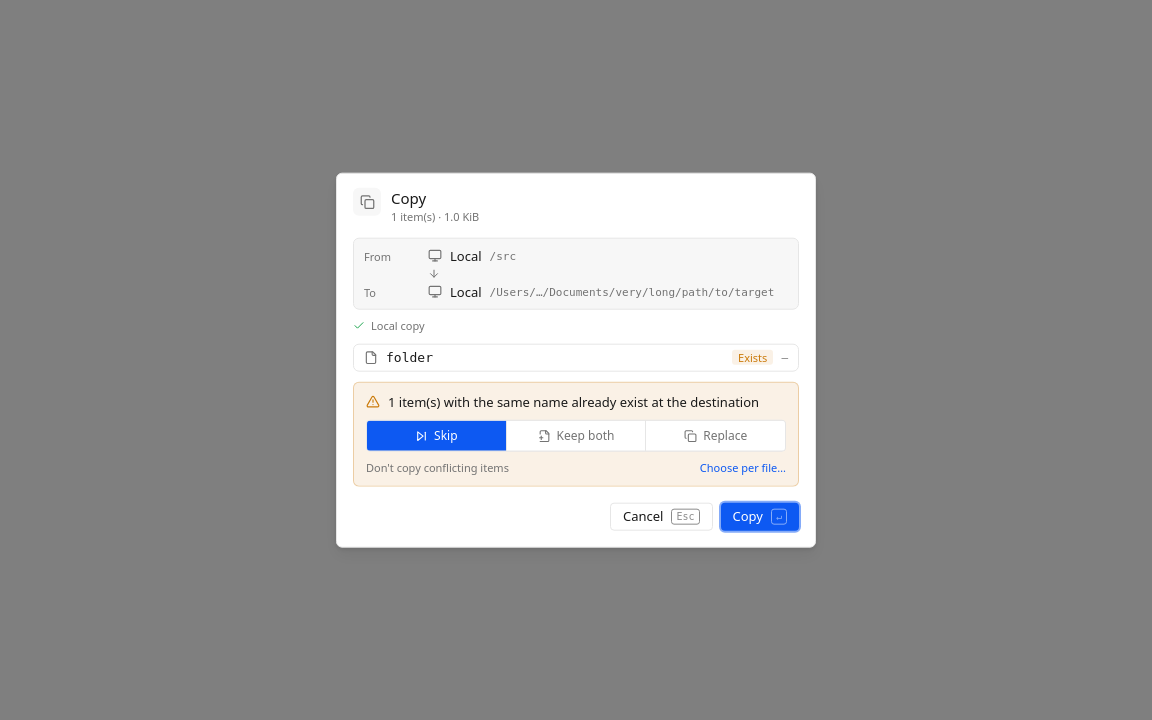
it: CopyMoveConfirmDialog › 폴더만 교체하면 영구 손실 경고 없이 Undo를 안내 (항목별=false)
Step 1. Click the radio button labelled "Replace" → (716,436), box x1=646 y1=421 x2=785 y2=451
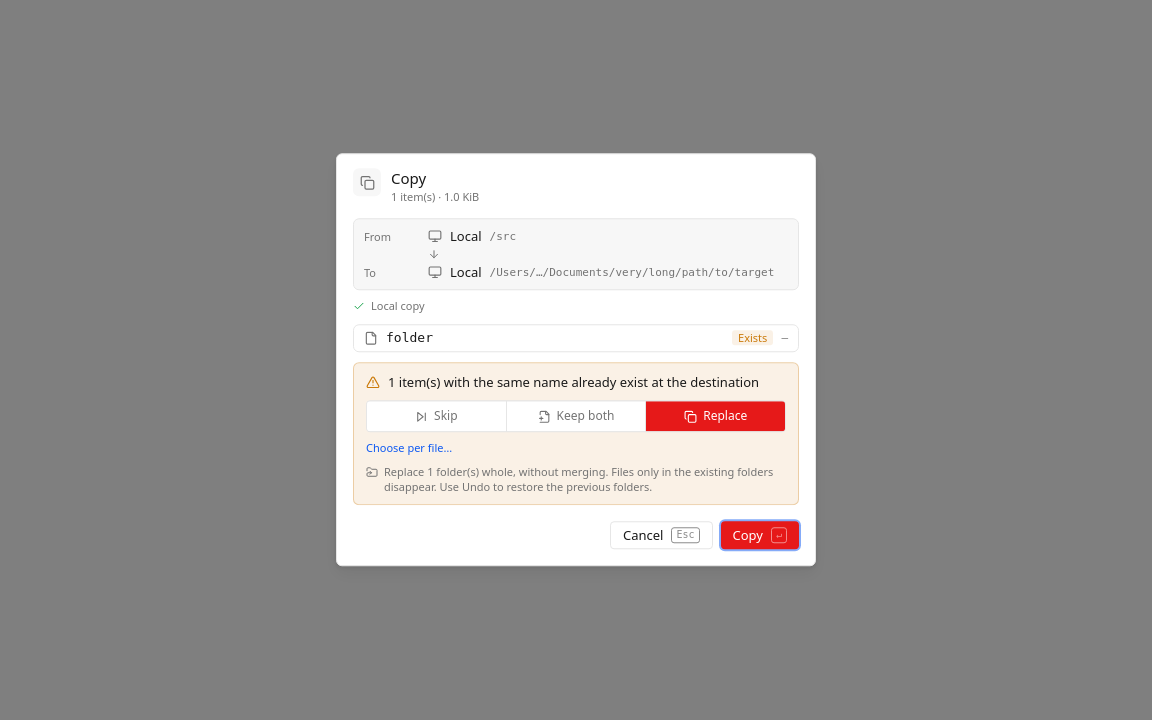
Expected: the text "Replace 1 folder(s) whole" is shown, x1=384 y1=464 x2=773 y2=494
Expected: the text "Use Undo to restore" is shown, x1=440 y1=479 x2=652 y2=494
